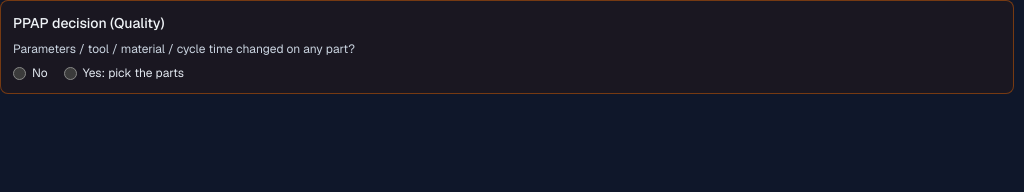
Test: PpapDecisionCard › yes with no impacted parts yet names the lead who adds them first
Step 1. Click the radio button with test id "ppap-yes" → [70, 73], box x1=64 y1=66 x2=77 y2=80
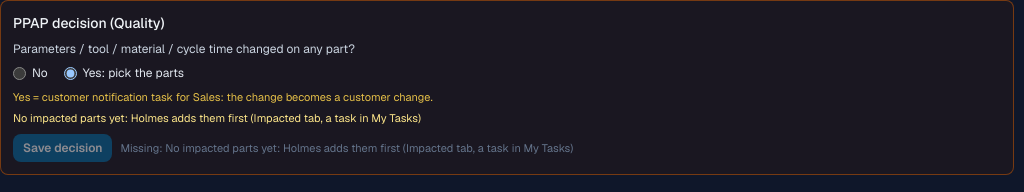
Result: the text with test id "ppap-no-parts" shows "Holmes adds them first" at x1=13 y1=110 x2=421 y2=124
Result: the button with test id "ppap-save" is disabled at x1=13 y1=134 x2=112 y2=162
